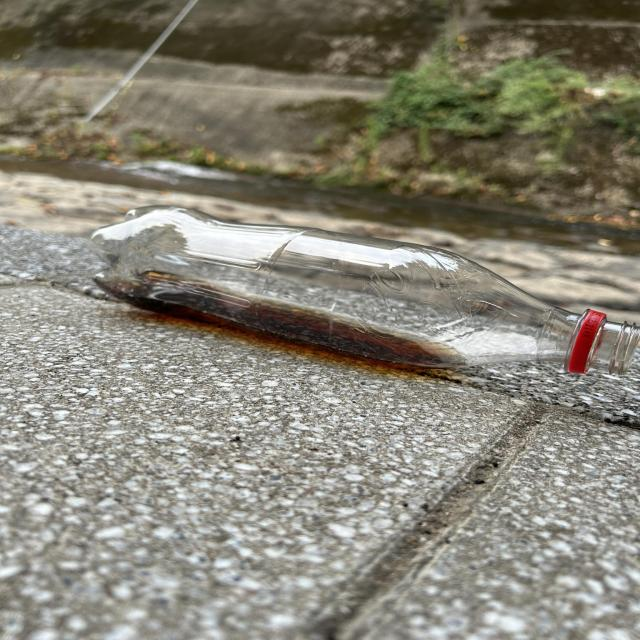low: (90, 206, 640, 374)
